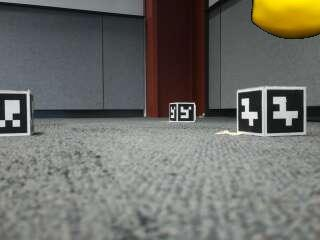lemon: (253, 0, 320, 38)
